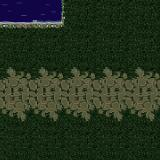Interaction: (0, 16, 75, 37), (56, 0, 76, 17)
Slow: (0, 0, 59, 19)
